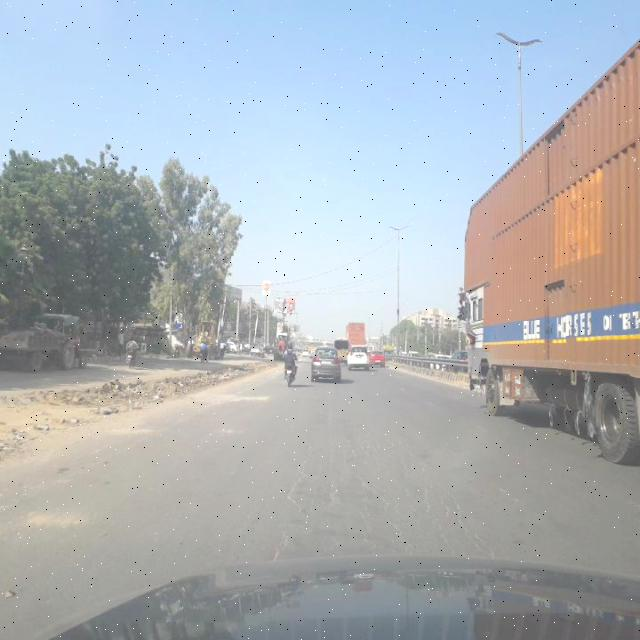D20: (265, 394, 494, 556)
